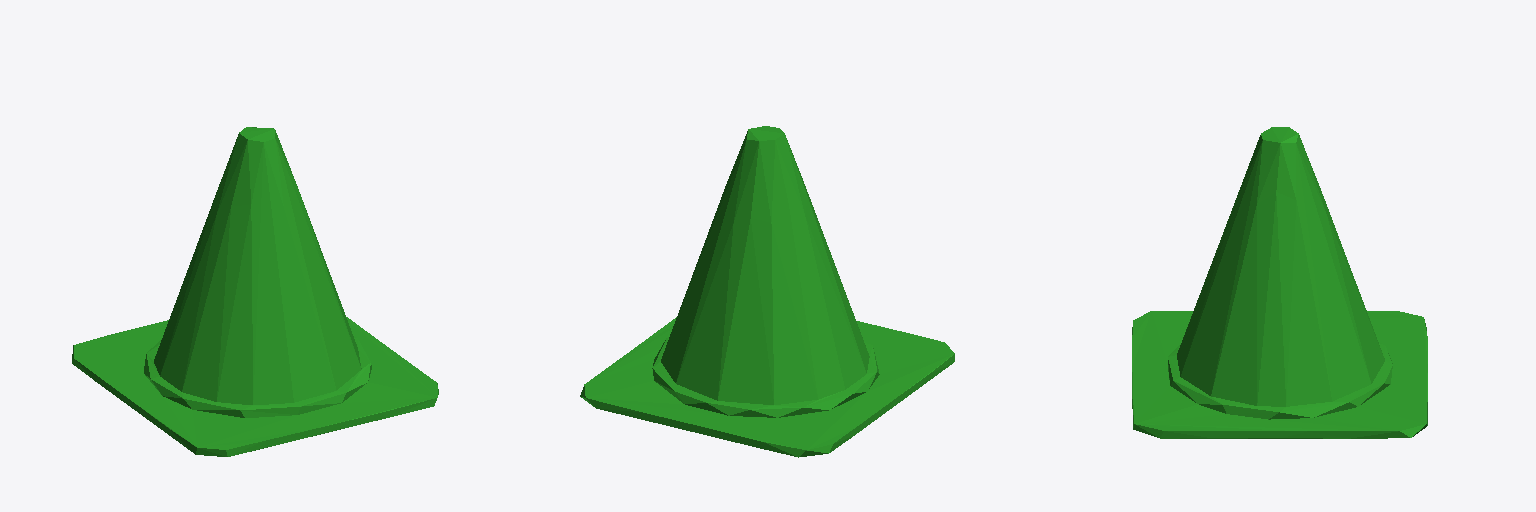
The picture shows the model from 3 angles: view 1: azimuth 30°, elevation 25°; view 2: azimuth 150°, elevation 25°; view 3: azimuth 270°, elevation 25°; orthographic projection.
Visible parts, largest first — view 1: 272876_23_05_11_13_31_21_1; view 2: 272876_23_05_11_13_31_21_1; view 3: 272876_23_05_11_13_31_21_1.
Boxes of the visible parts, x1,y1,x2,y2 form: 272876_23_05_11_13_31_21_1: [72, 127, 438, 456]; 272876_23_05_11_13_31_21_1: [580, 126, 954, 457]; 272876_23_05_11_13_31_21_1: [1132, 127, 1427, 438].
Size of the model in its own units: 5.3 by 5.02 by 5.48.
Materials: 1 (1 with a texture image).